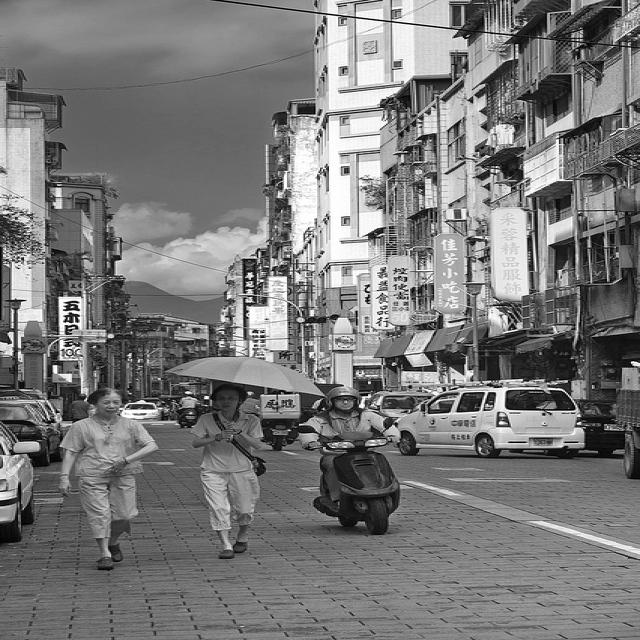motor: (298, 417, 403, 534), (264, 425, 291, 451), (178, 408, 199, 428)
